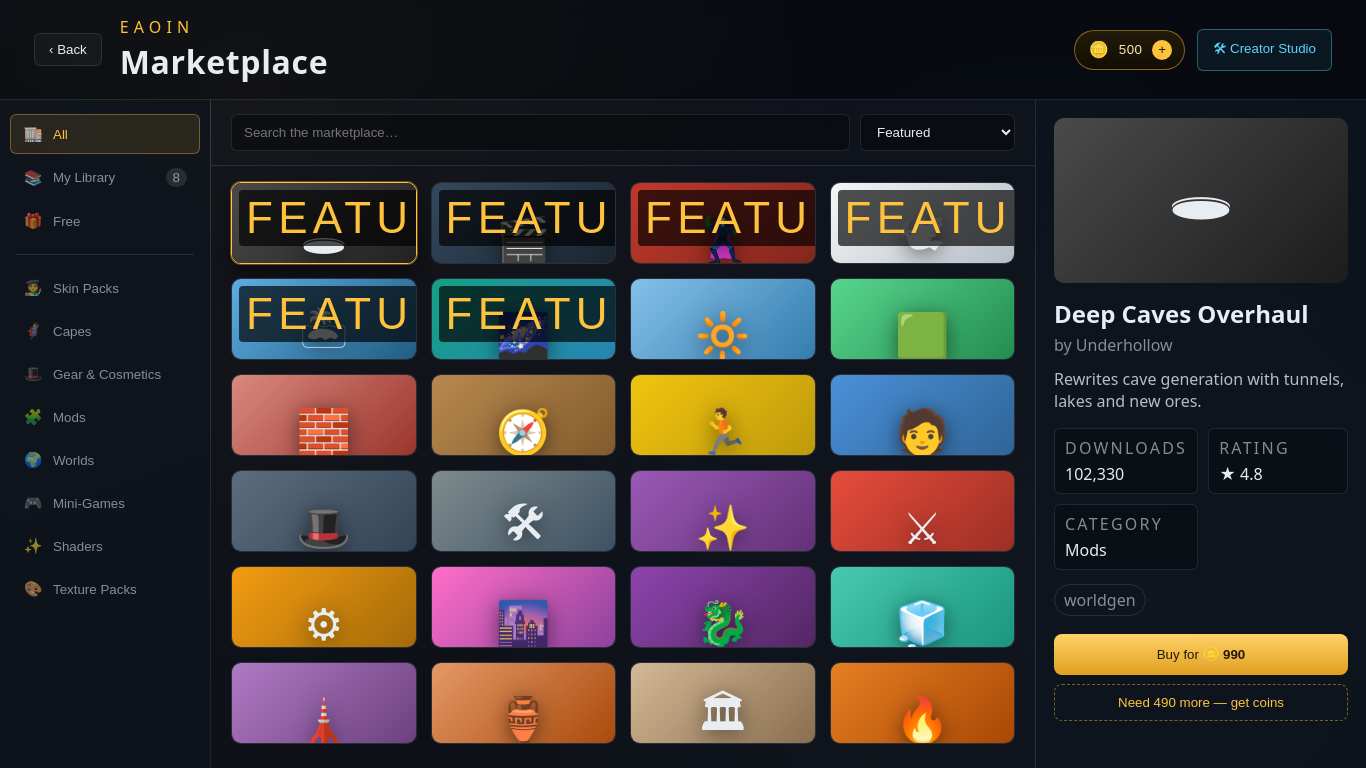
Test: MarketplaceScreen › filters by search text
Type "zzzz-no-such-item" into the field with class "mk-search".
click(540, 132); type("zzzz-no-such-item")  # box [231,114,850,151]
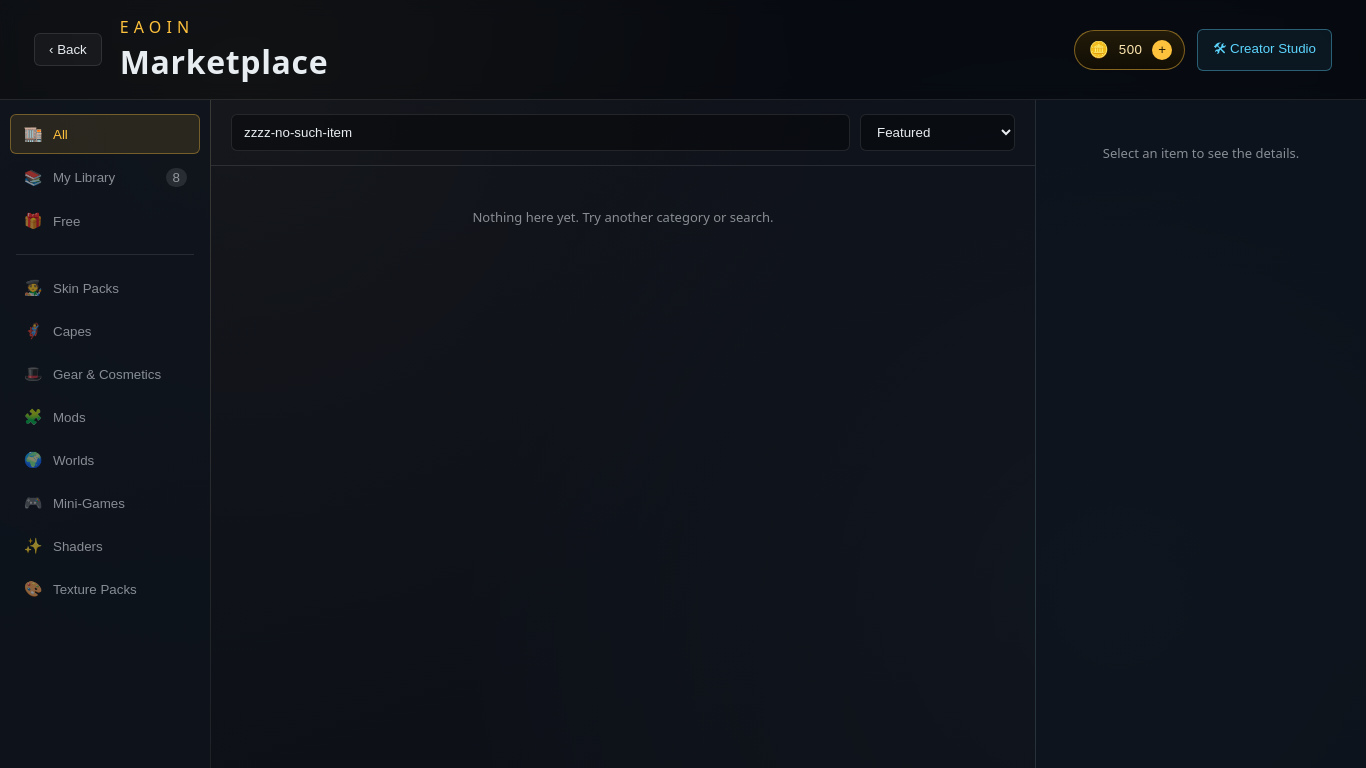
Expected: no buttons with class "mk-tile" are shown
Expected: the text "Nothing here yet" is shown, [472,208,774,226]
